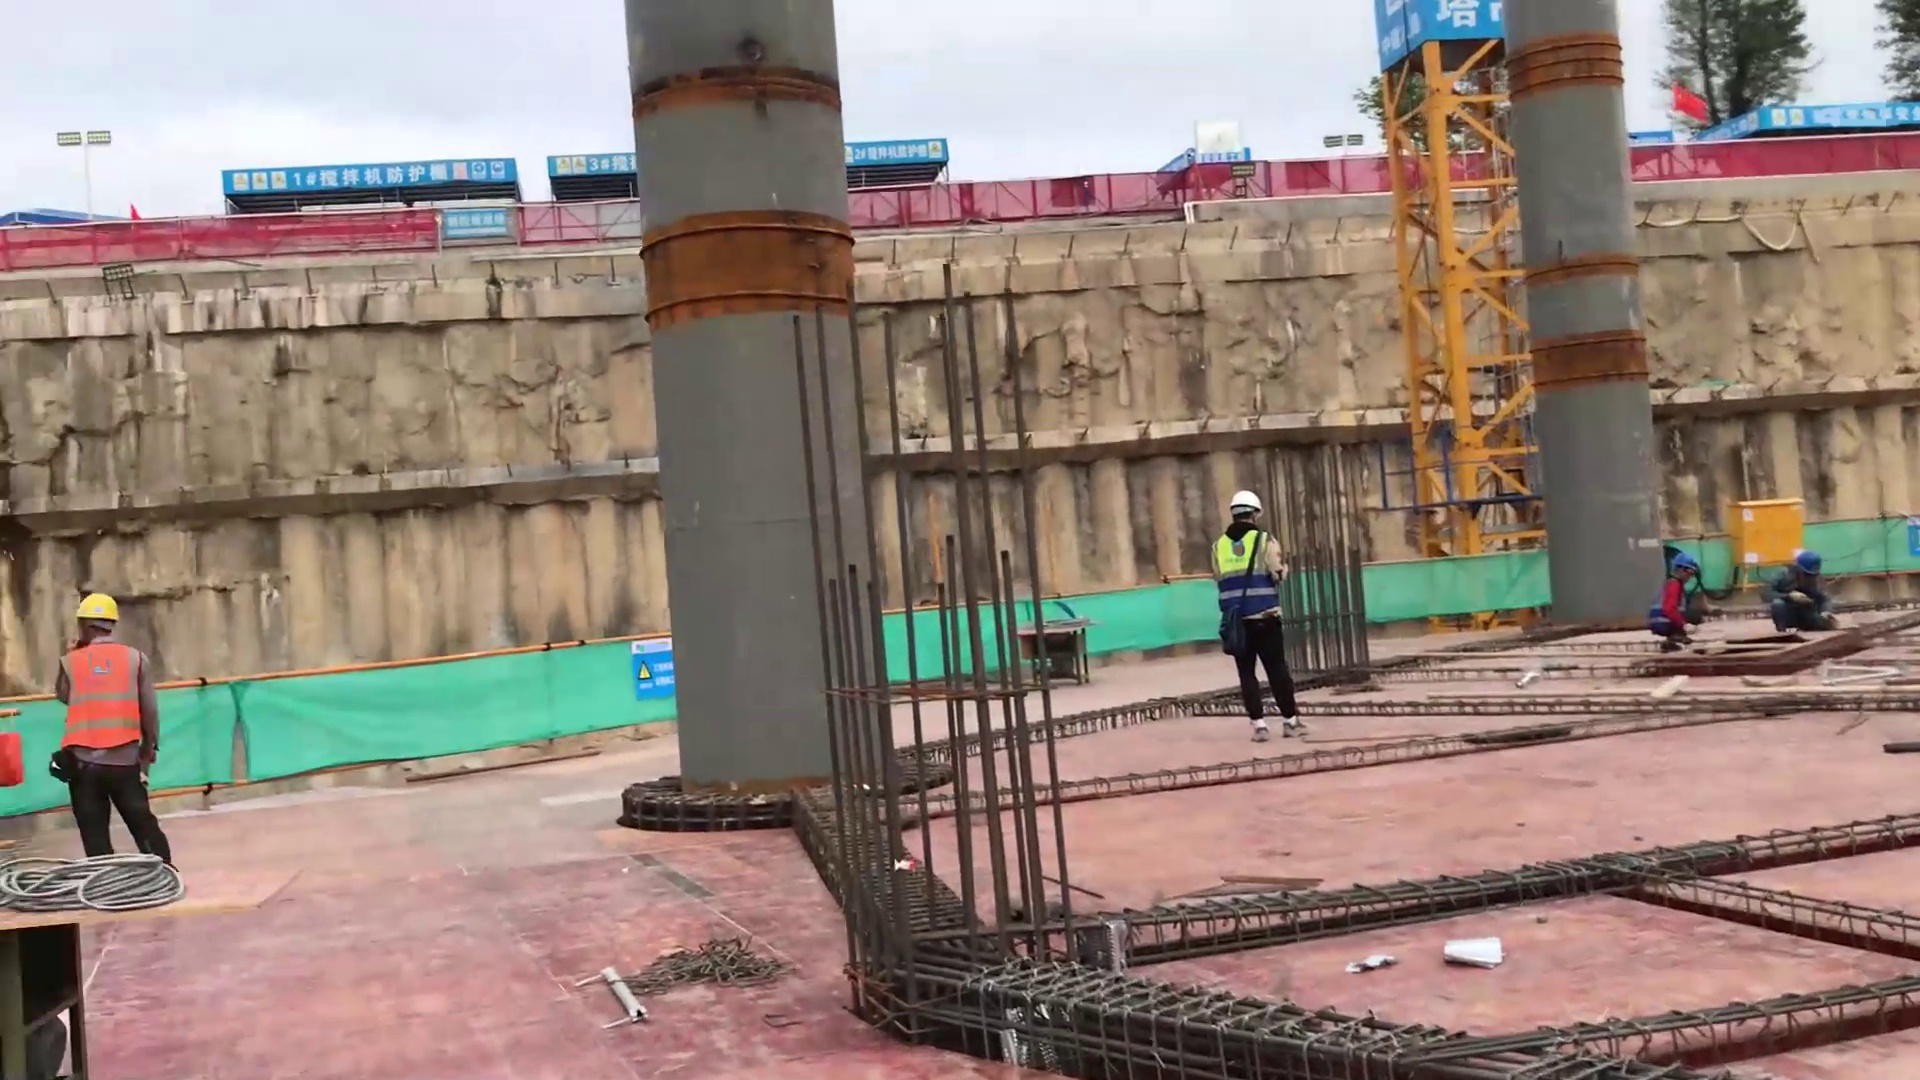cutter: (1020, 615, 1094, 684)
ebox: (1726, 490, 1808, 569)
fence: (32, 211, 428, 265), (869, 171, 1174, 227)
helmet: (78, 592, 120, 624), (1231, 490, 1264, 514), (1798, 550, 1824, 577), (1671, 551, 1697, 570)
person: (54, 590, 198, 861), (1213, 488, 1315, 743), (1761, 550, 1838, 631), (1648, 550, 1702, 657)
slogan: (227, 152, 522, 195), (1706, 100, 1910, 130), (838, 135, 960, 171), (626, 636, 677, 702), (545, 145, 636, 175), (447, 204, 507, 235)
vest: (55, 638, 146, 766), (1216, 528, 1274, 615)
